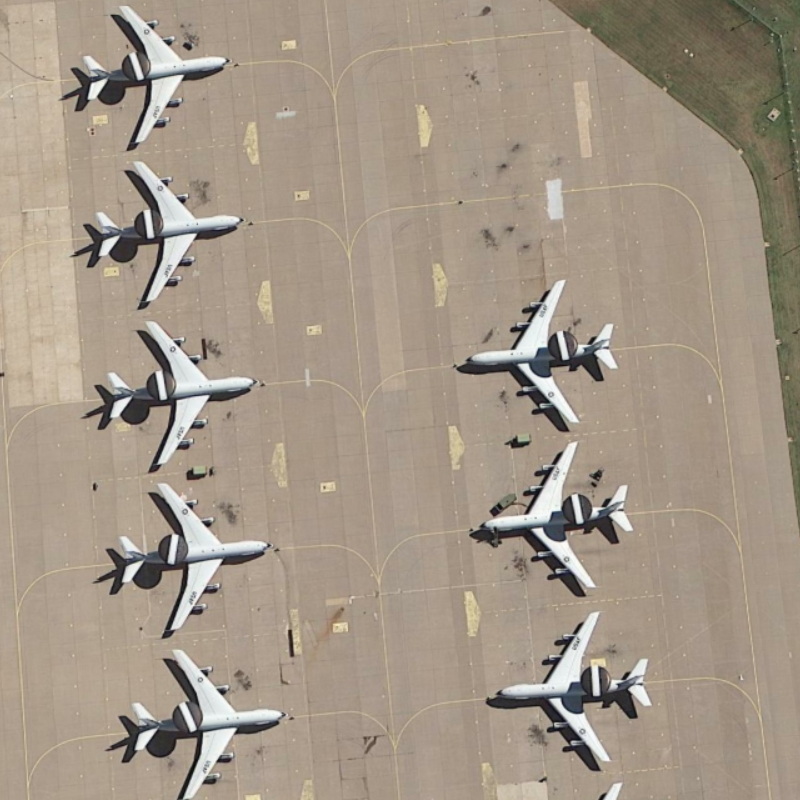A7: (491, 599, 671, 768), (469, 431, 641, 600), (106, 477, 279, 642), (54, 1, 238, 150), (454, 271, 623, 432), (121, 644, 291, 800), (97, 316, 262, 473), (83, 155, 247, 311)
